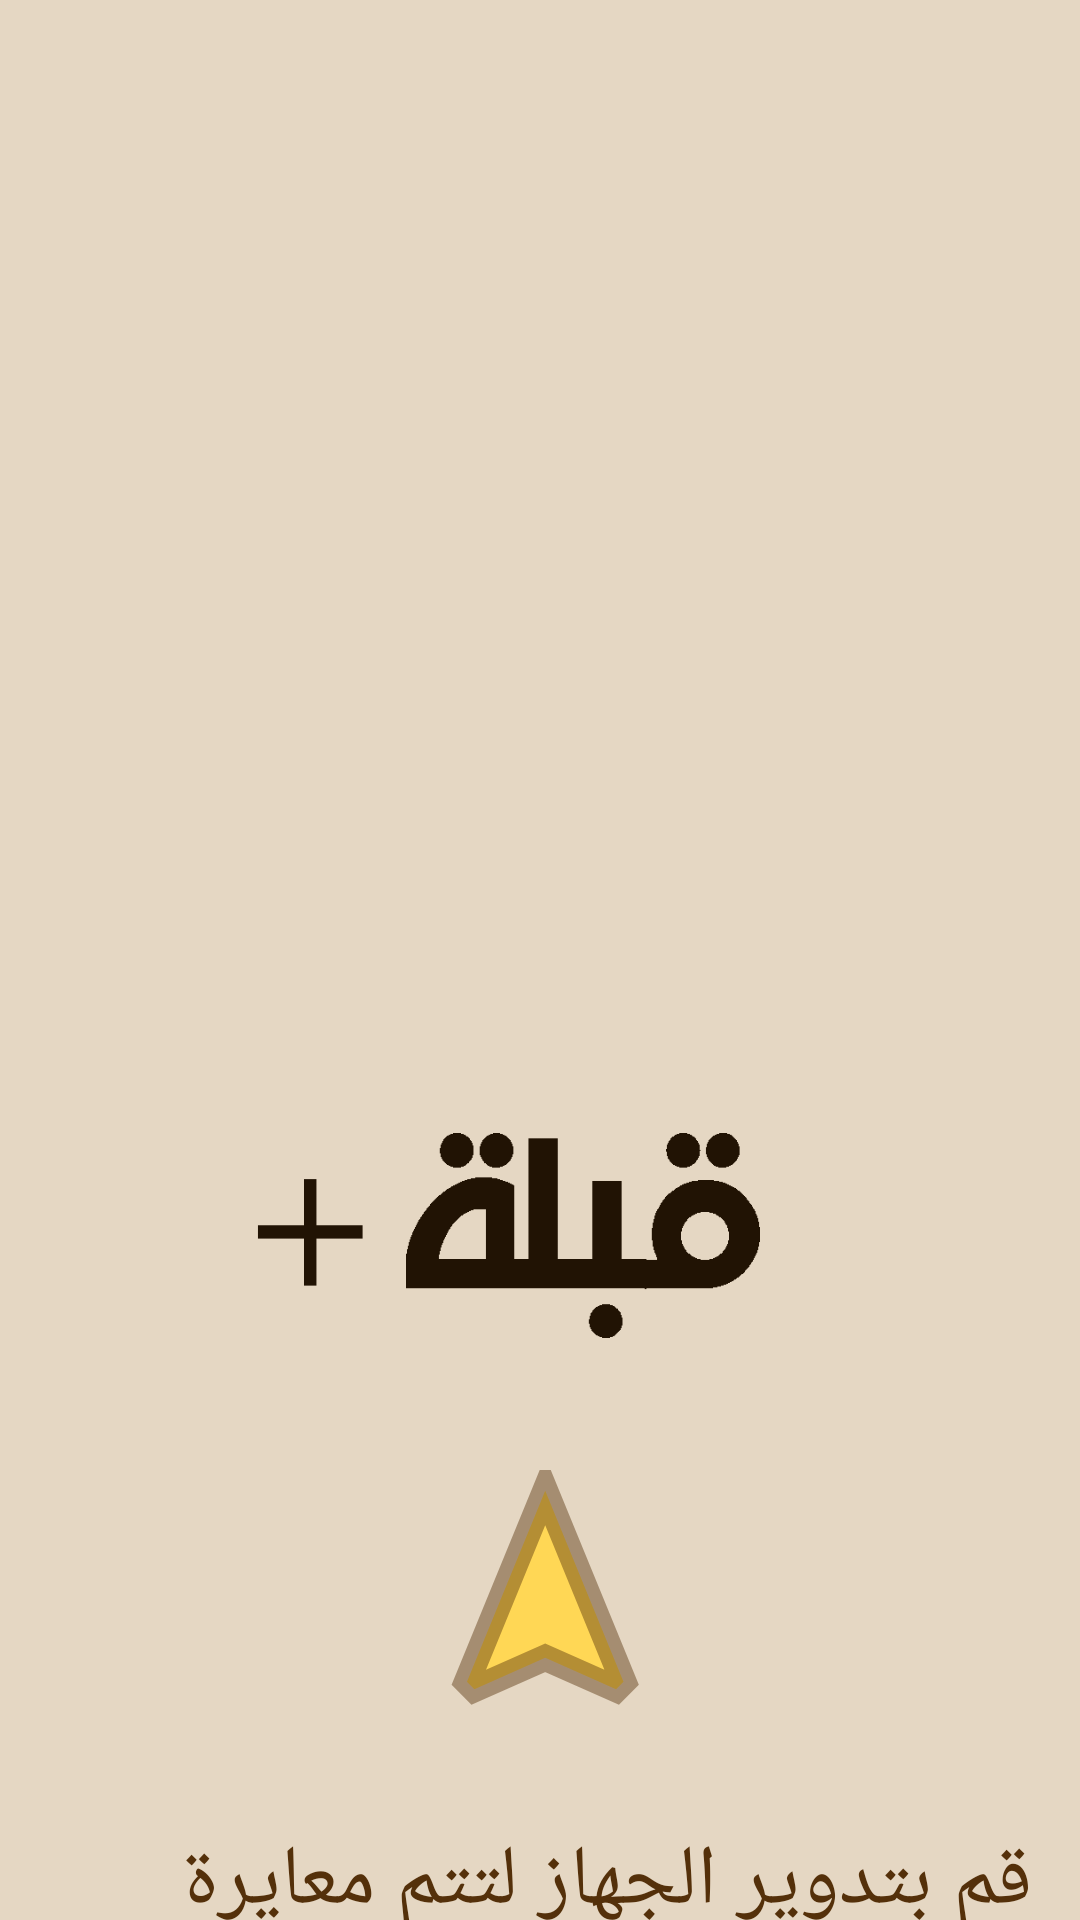

Icon click points for this 1080w x 1920h phone screenshot, format (x,y):
navigation: (545,1587)
